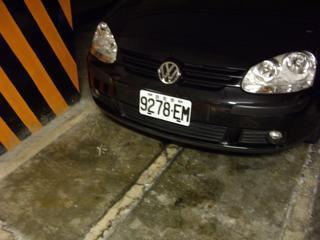plate: (137, 87, 193, 127)
